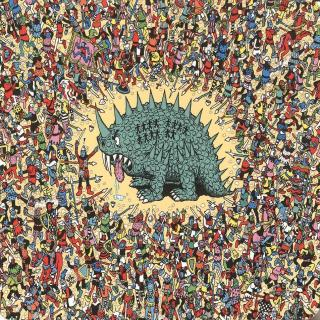Waldo: (296, 151, 304, 161)
